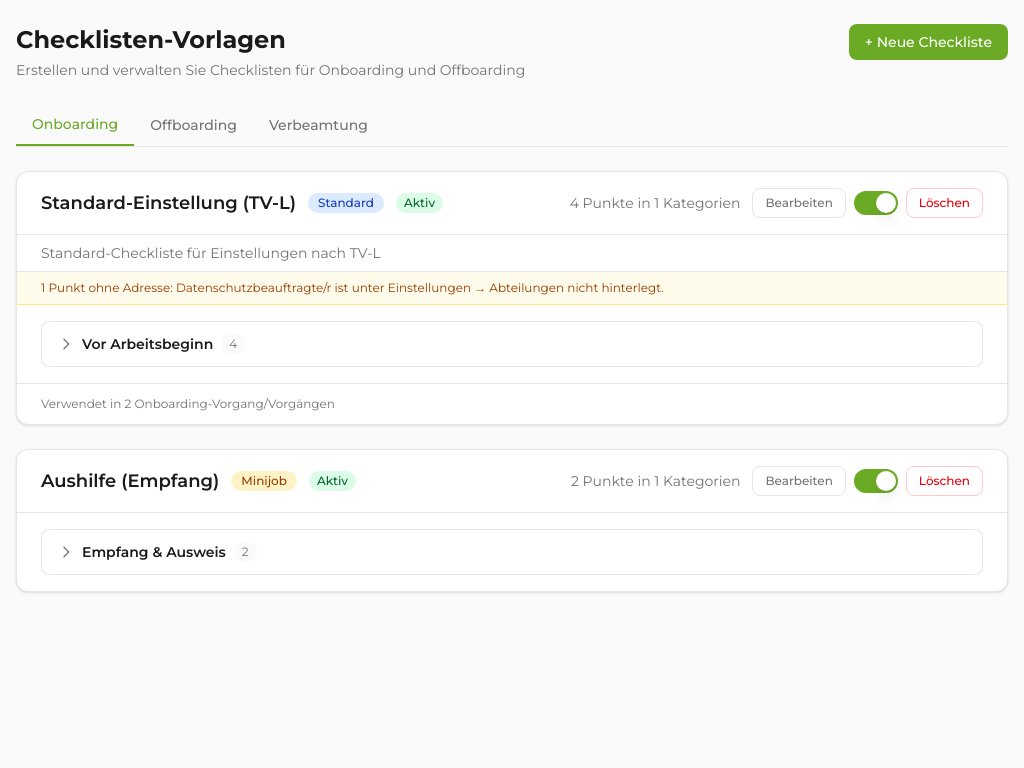
Vorlagen-Karte › der Tab „Verbeamtung“ zeigt keine Onboarding-Vorlagen mehr
Click the button "Verbeamtung" at (318, 125), box [253,104,384,146]
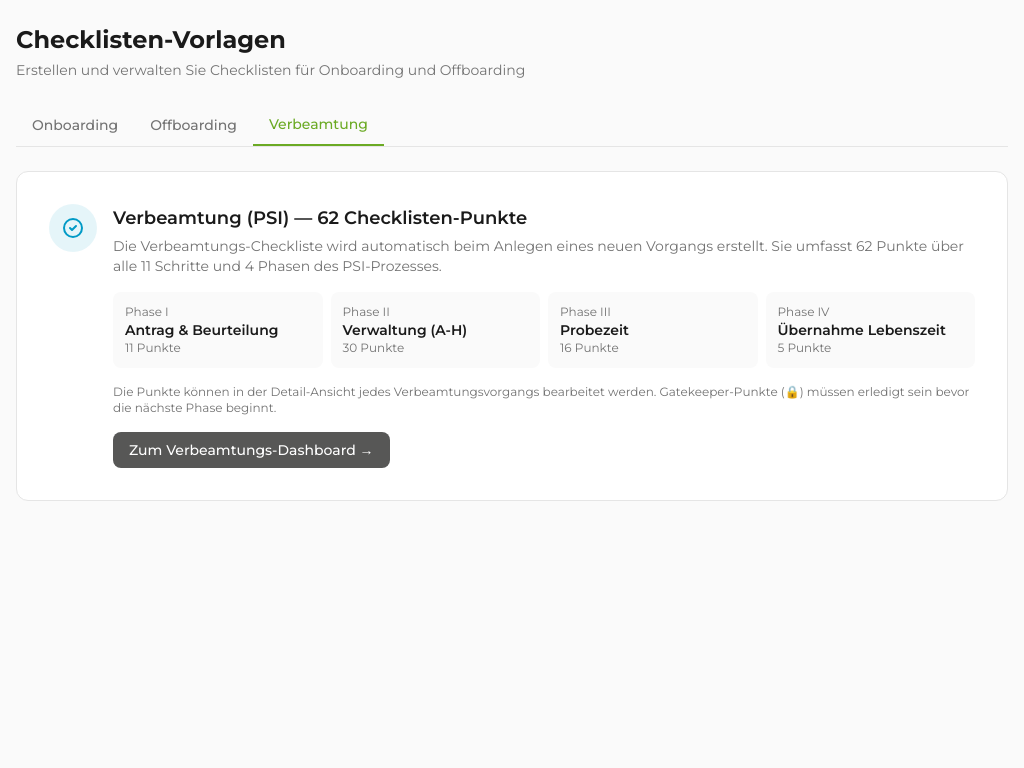
Expected: the text "Verbeamtung (PSI)" is shown, [113,207,527,229]
Expected: the text "Standard-Einstellung (TV-L)" is gone
